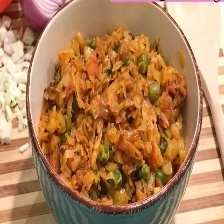sabzi: (36, 20, 190, 209)
